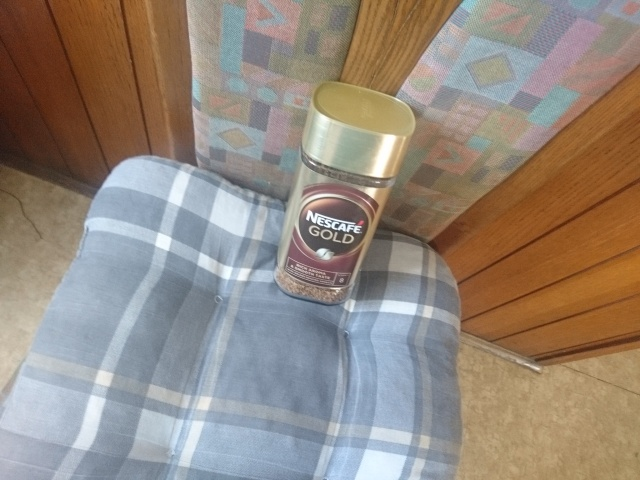Nescafe Gold 225g: (269, 78, 419, 309)
